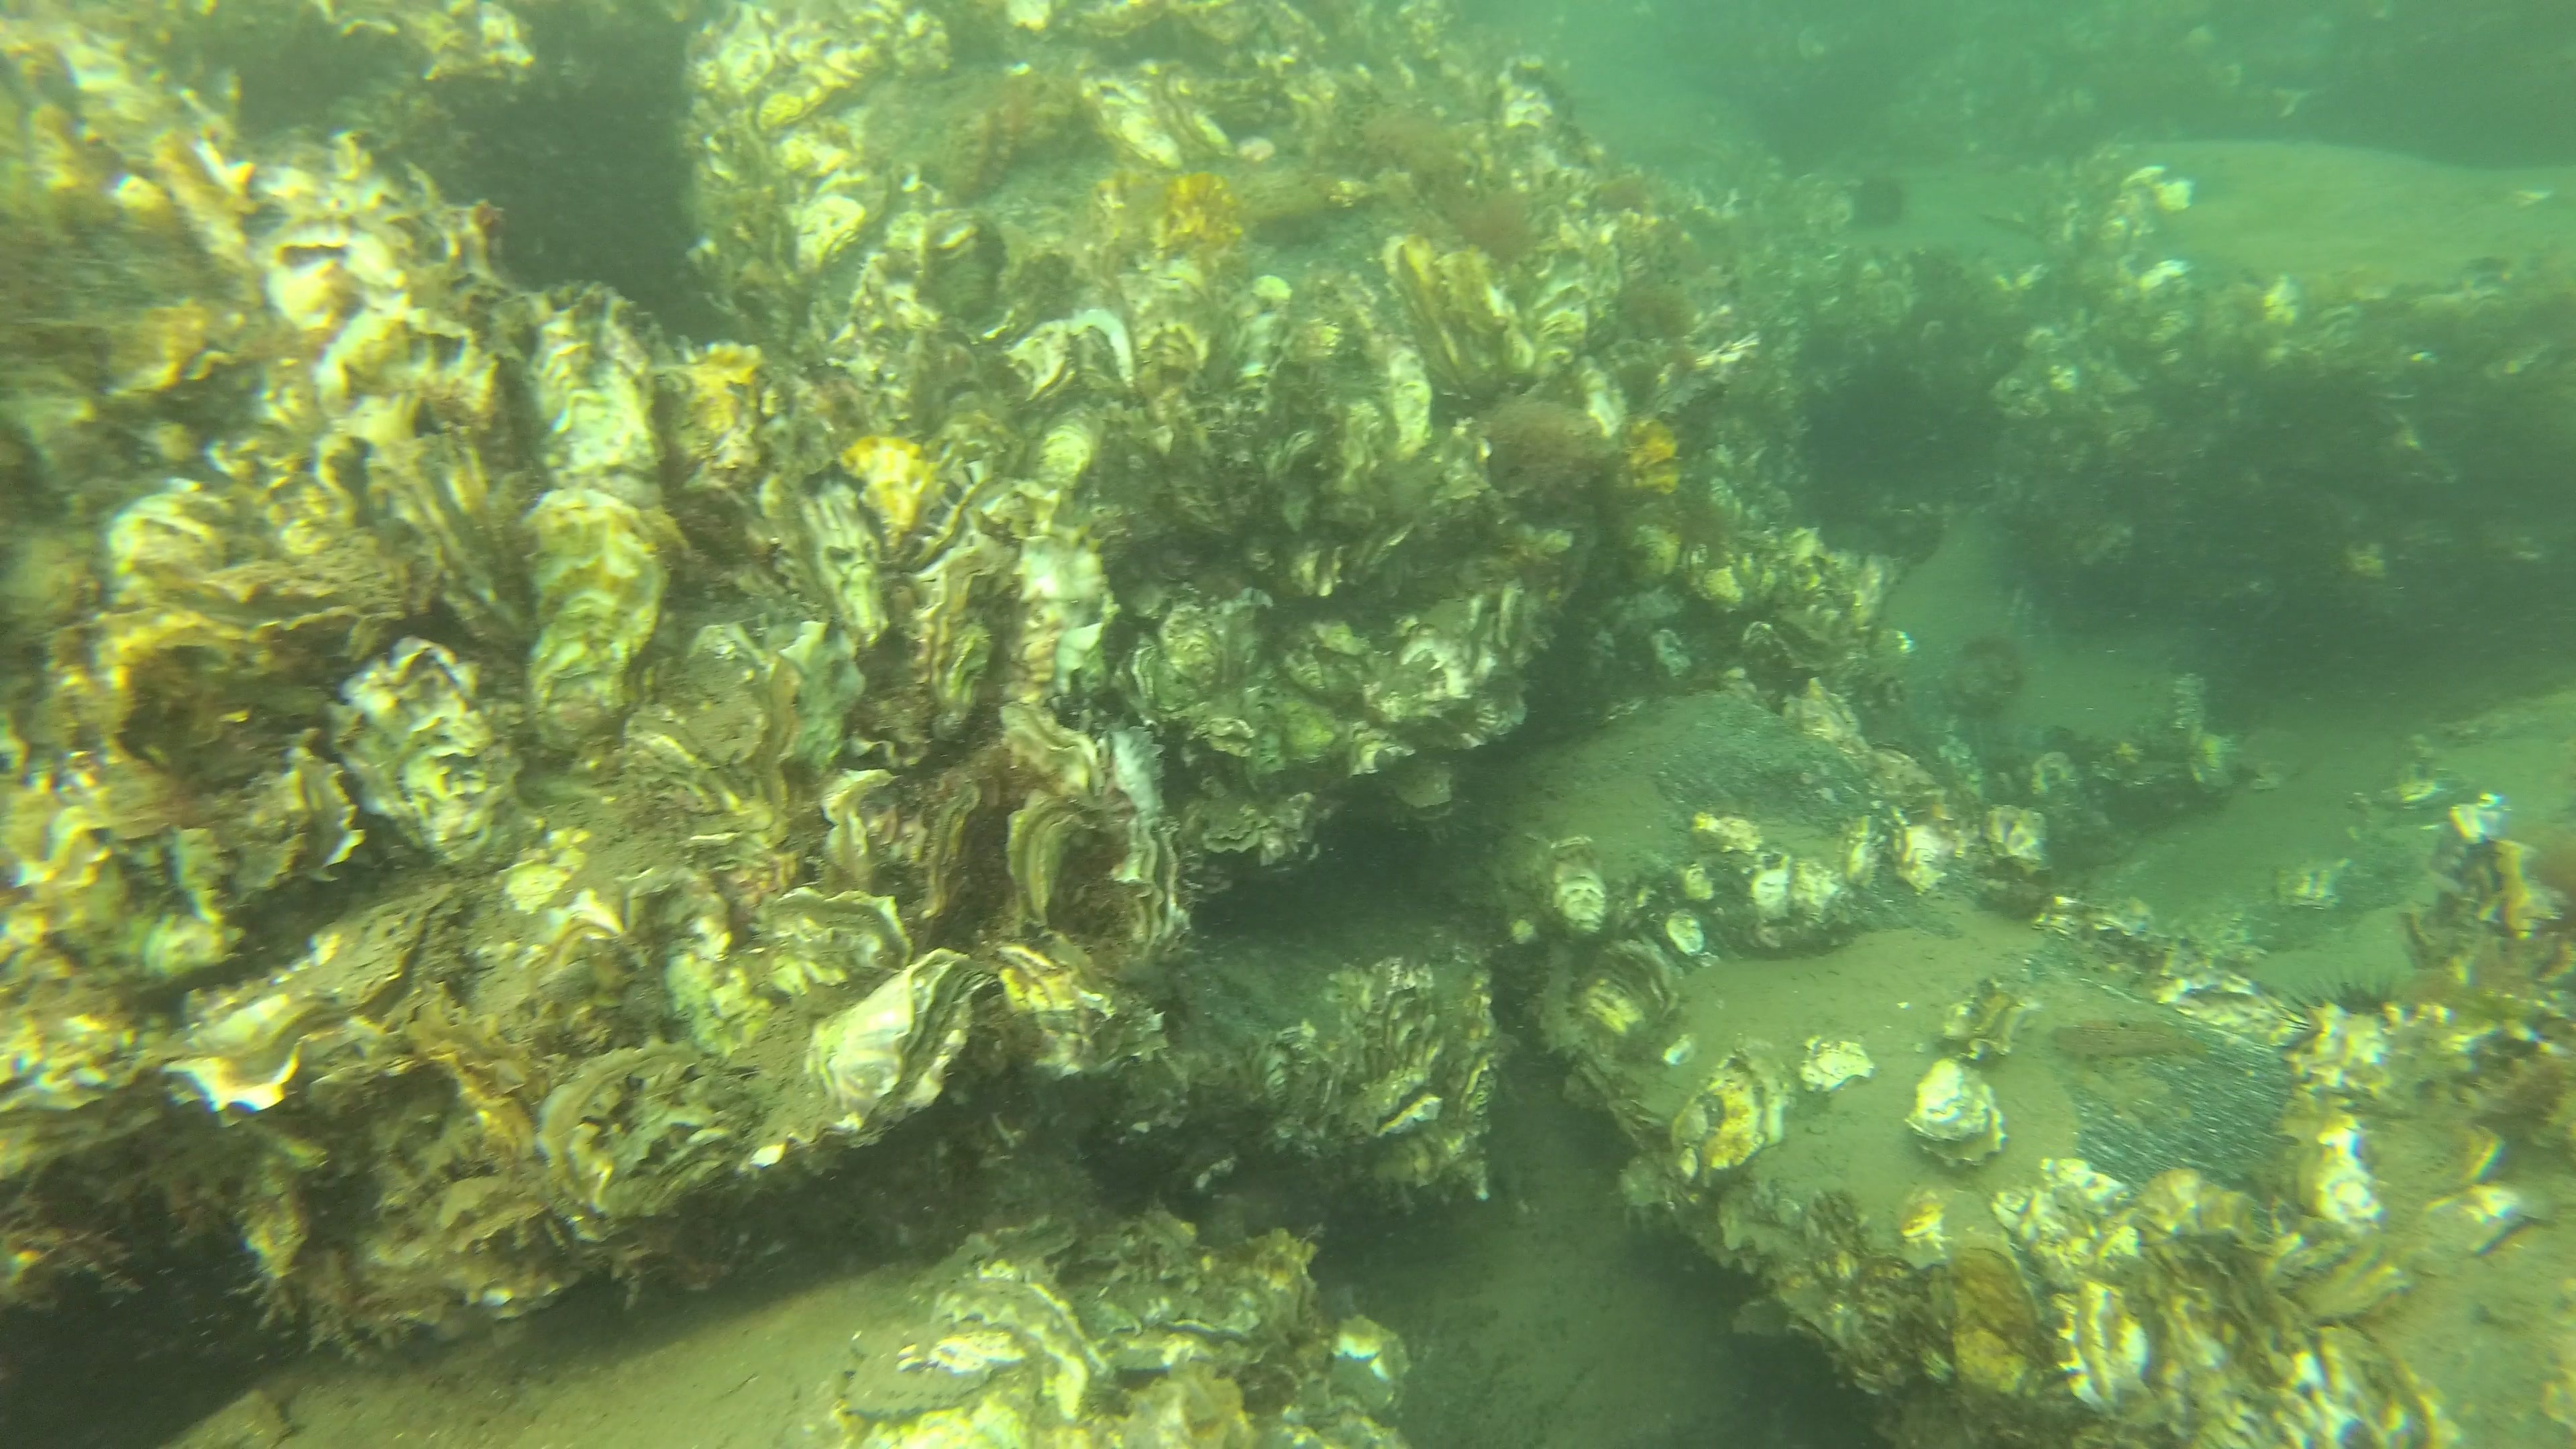echinus: (1847, 173, 1907, 234)
holothurian: (1527, 938, 1587, 1058)
